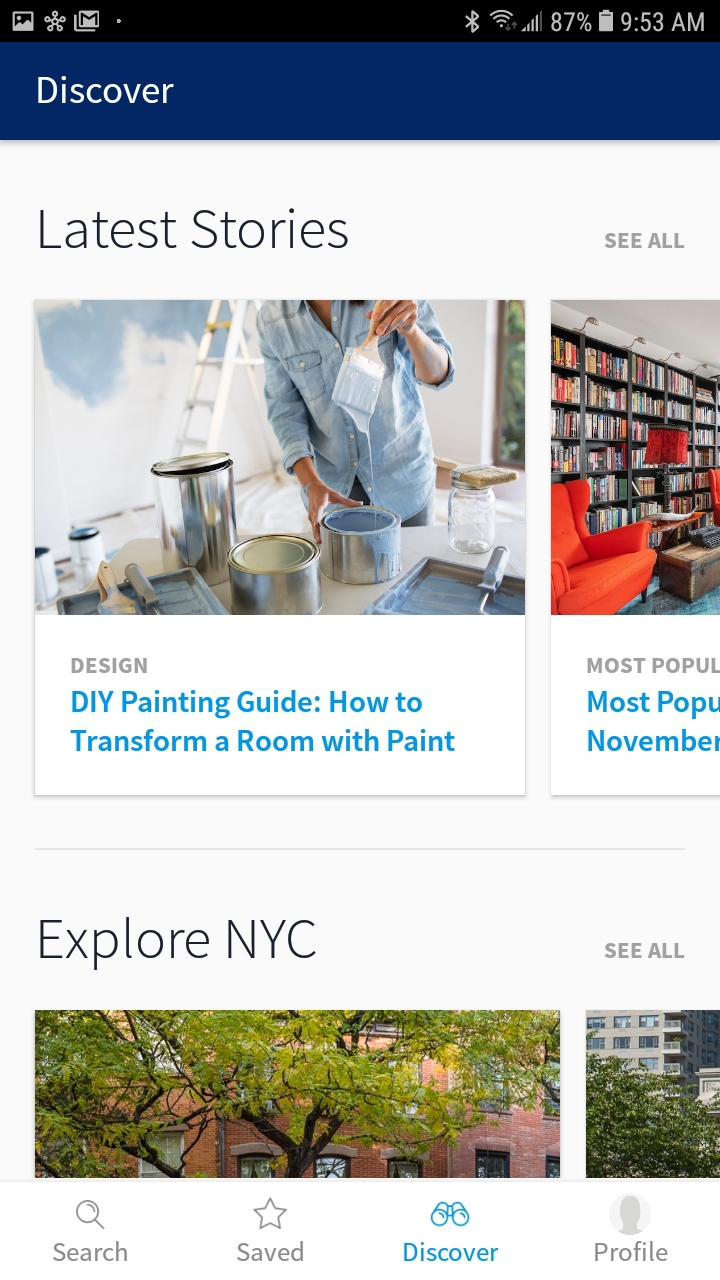Icon: (609, 1192, 652, 1235), (253, 1196, 288, 1230), (76, 1199, 106, 1231)
Image: (35, 301, 526, 616), (35, 1010, 561, 1179), (551, 300, 720, 616), (586, 1009, 720, 1178), (431, 1201, 471, 1227)
Text: (71, 690, 456, 753), (40, 917, 317, 971), (40, 208, 349, 250), (587, 690, 720, 753), (38, 76, 176, 105), (587, 658, 720, 675), (404, 1241, 499, 1262), (53, 1240, 129, 1262), (594, 1240, 668, 1262), (236, 1240, 304, 1262), (604, 942, 685, 959), (605, 233, 685, 250), (72, 657, 149, 674)
UpperTaskBar: (1, 1, 720, 43)
